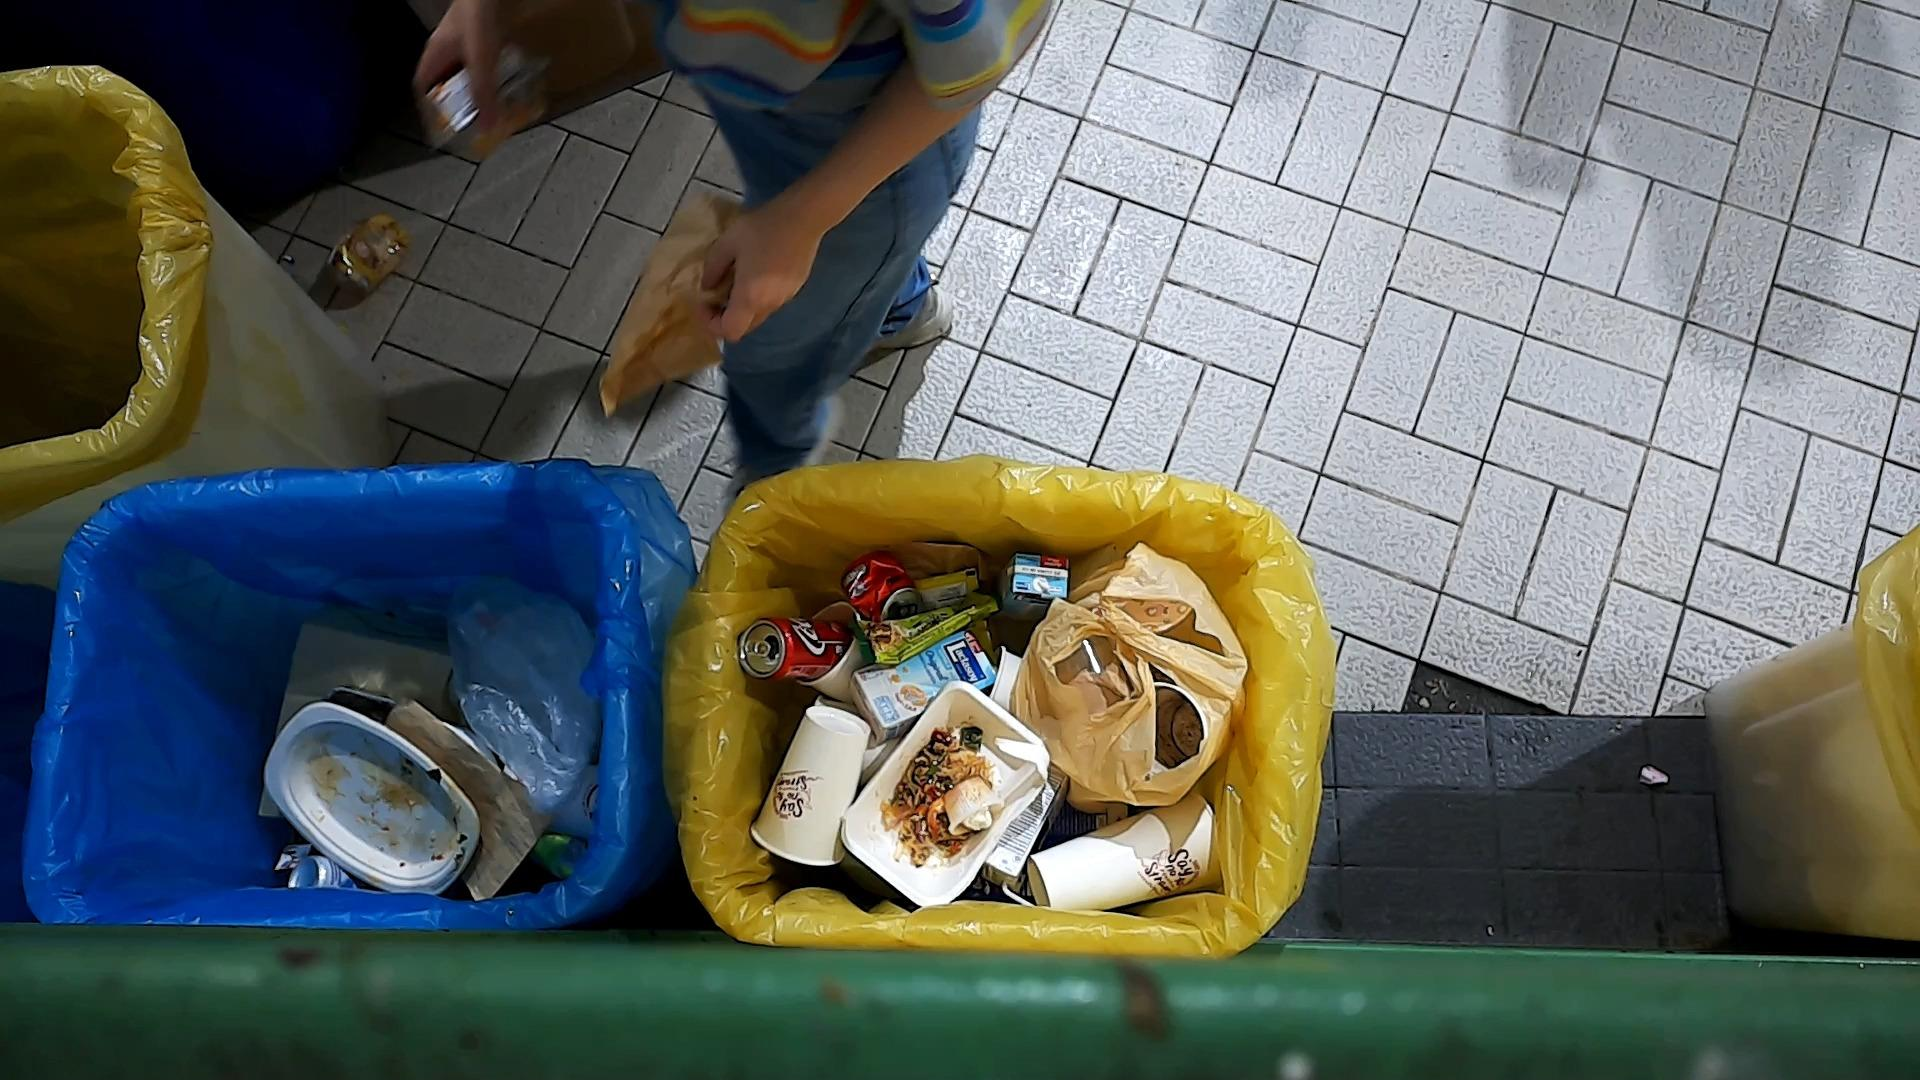can: (735, 611, 853, 686), (836, 545, 927, 624)
dirty food container: (835, 674, 1055, 910), (939, 773, 1009, 841)
filled plastic bag: (1006, 538, 1255, 812)
food container: (258, 696, 484, 897), (411, 34, 563, 170)
milk carton: (848, 625, 1001, 749), (982, 761, 1073, 907), (993, 551, 1071, 633)
paper bag: (588, 177, 754, 426), (381, 688, 558, 906)
plastic bag: (439, 563, 609, 822)
snack packaging: (845, 587, 1006, 669)
zero waste cup: (1023, 787, 1226, 918), (745, 703, 874, 870)
